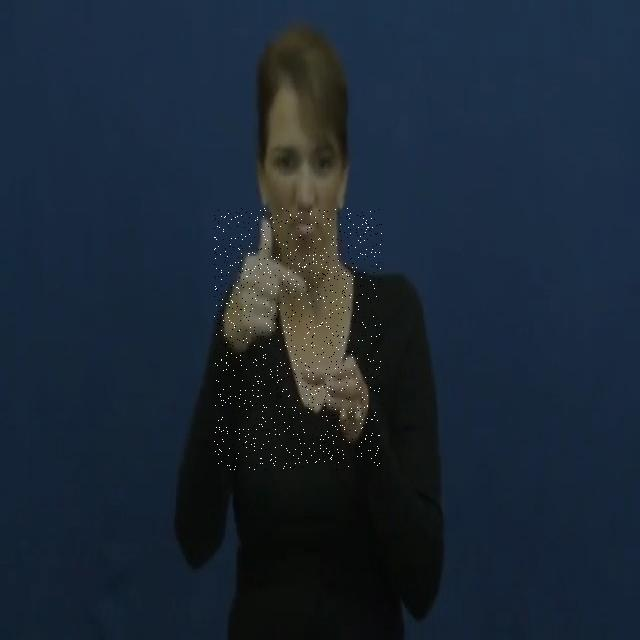straw: (214, 208, 382, 470)
